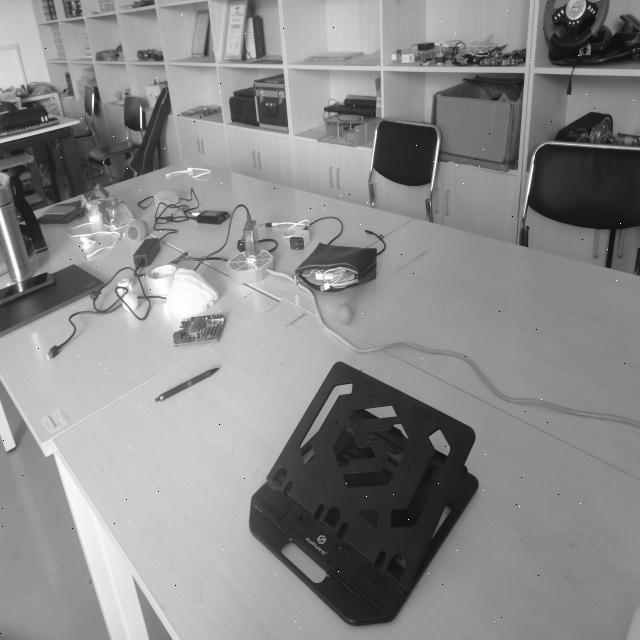ping-pong-ball: (336, 302, 353, 326), (122, 292, 138, 312)
